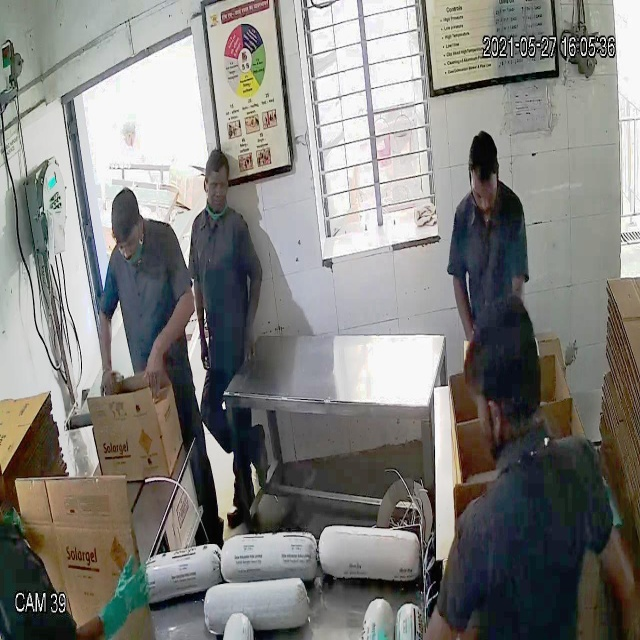Sin_gafas: (111, 230, 146, 260)
